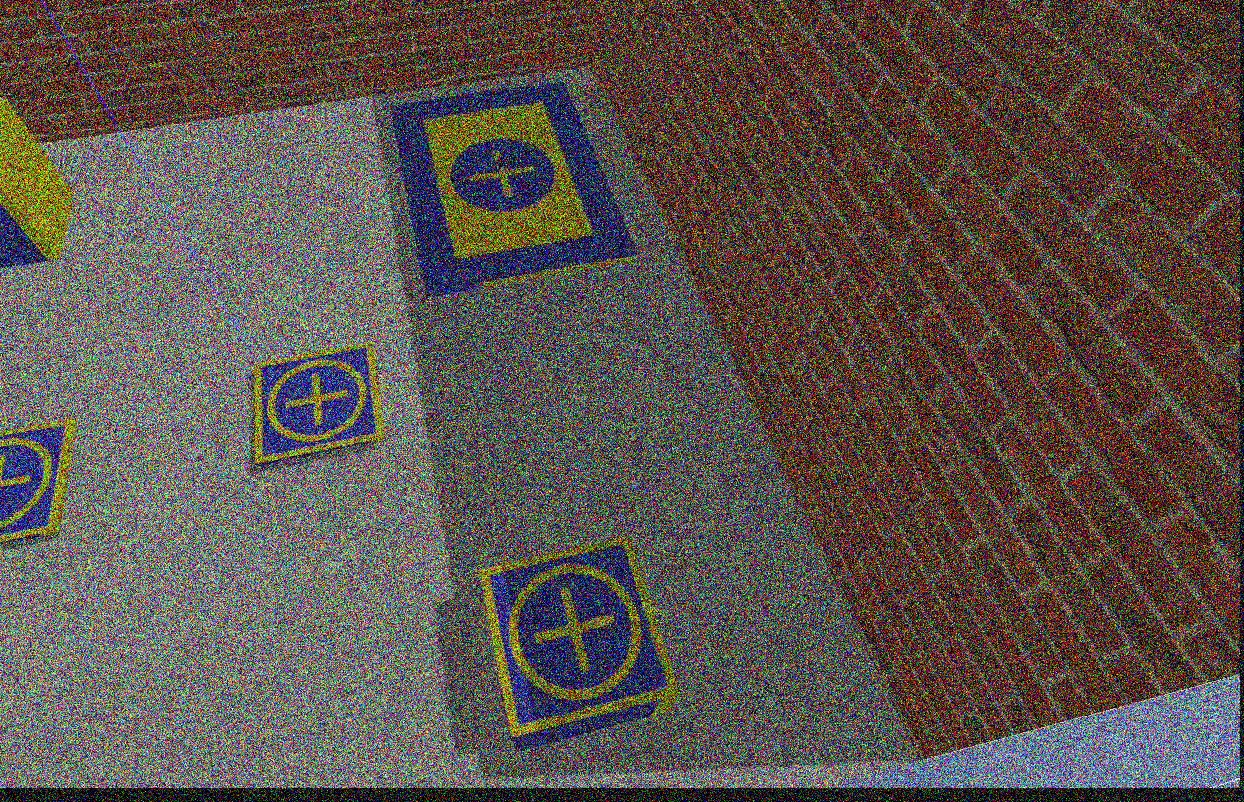large_base: (389, 82, 643, 299)
small_base: (477, 540, 679, 738), (247, 340, 384, 468), (0, 422, 78, 543)
